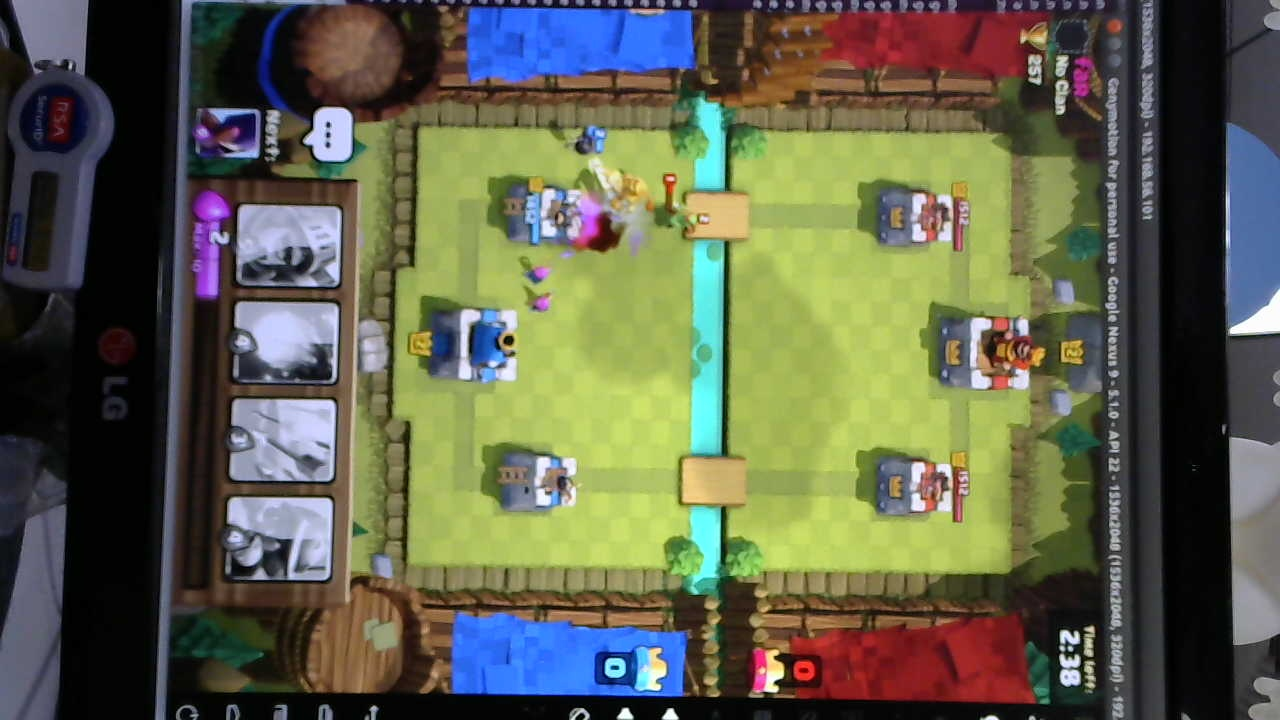archers: (521, 260, 555, 320)
arena: (496, 447, 582, 517), (504, 181, 587, 246)
bomb: (563, 123, 608, 159)
earena: (871, 185, 955, 250), (880, 458, 958, 519)
eking: (934, 309, 1041, 394)
king: (440, 306, 521, 385)
prince: (588, 161, 658, 215)
speargoblin: (661, 205, 707, 237)
